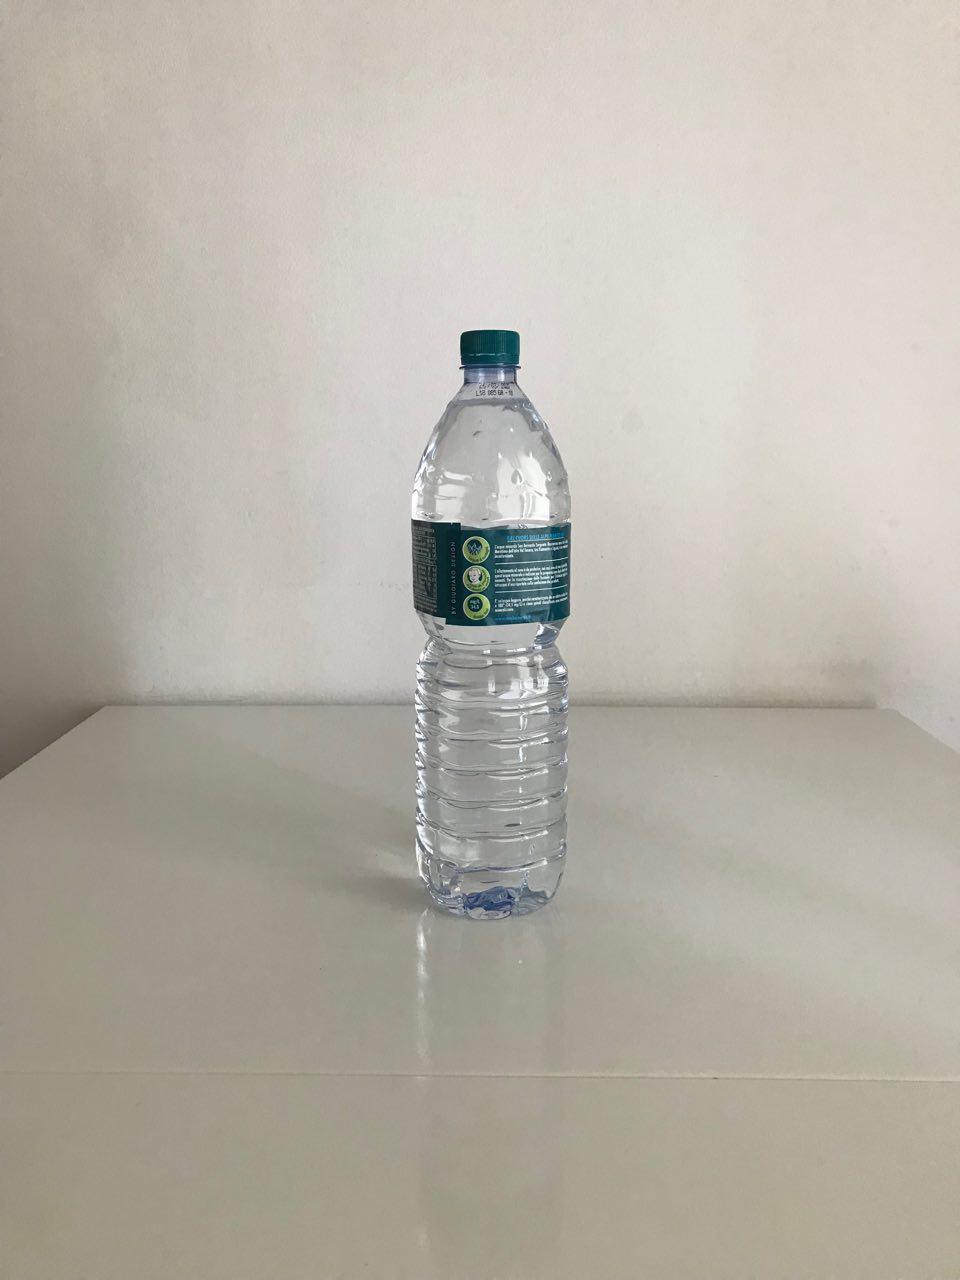san_bernardo: (407, 327, 574, 923)
